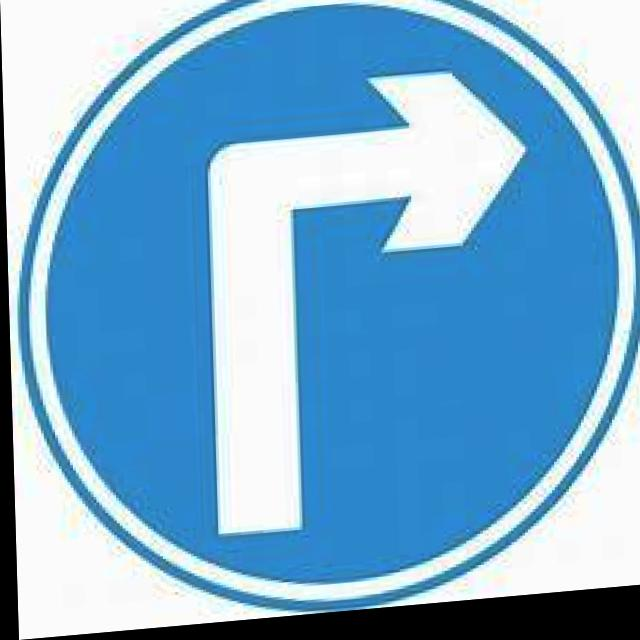COMPULSARY_TURN_RIGHT_AHEAD: (3, 0, 640, 640)
